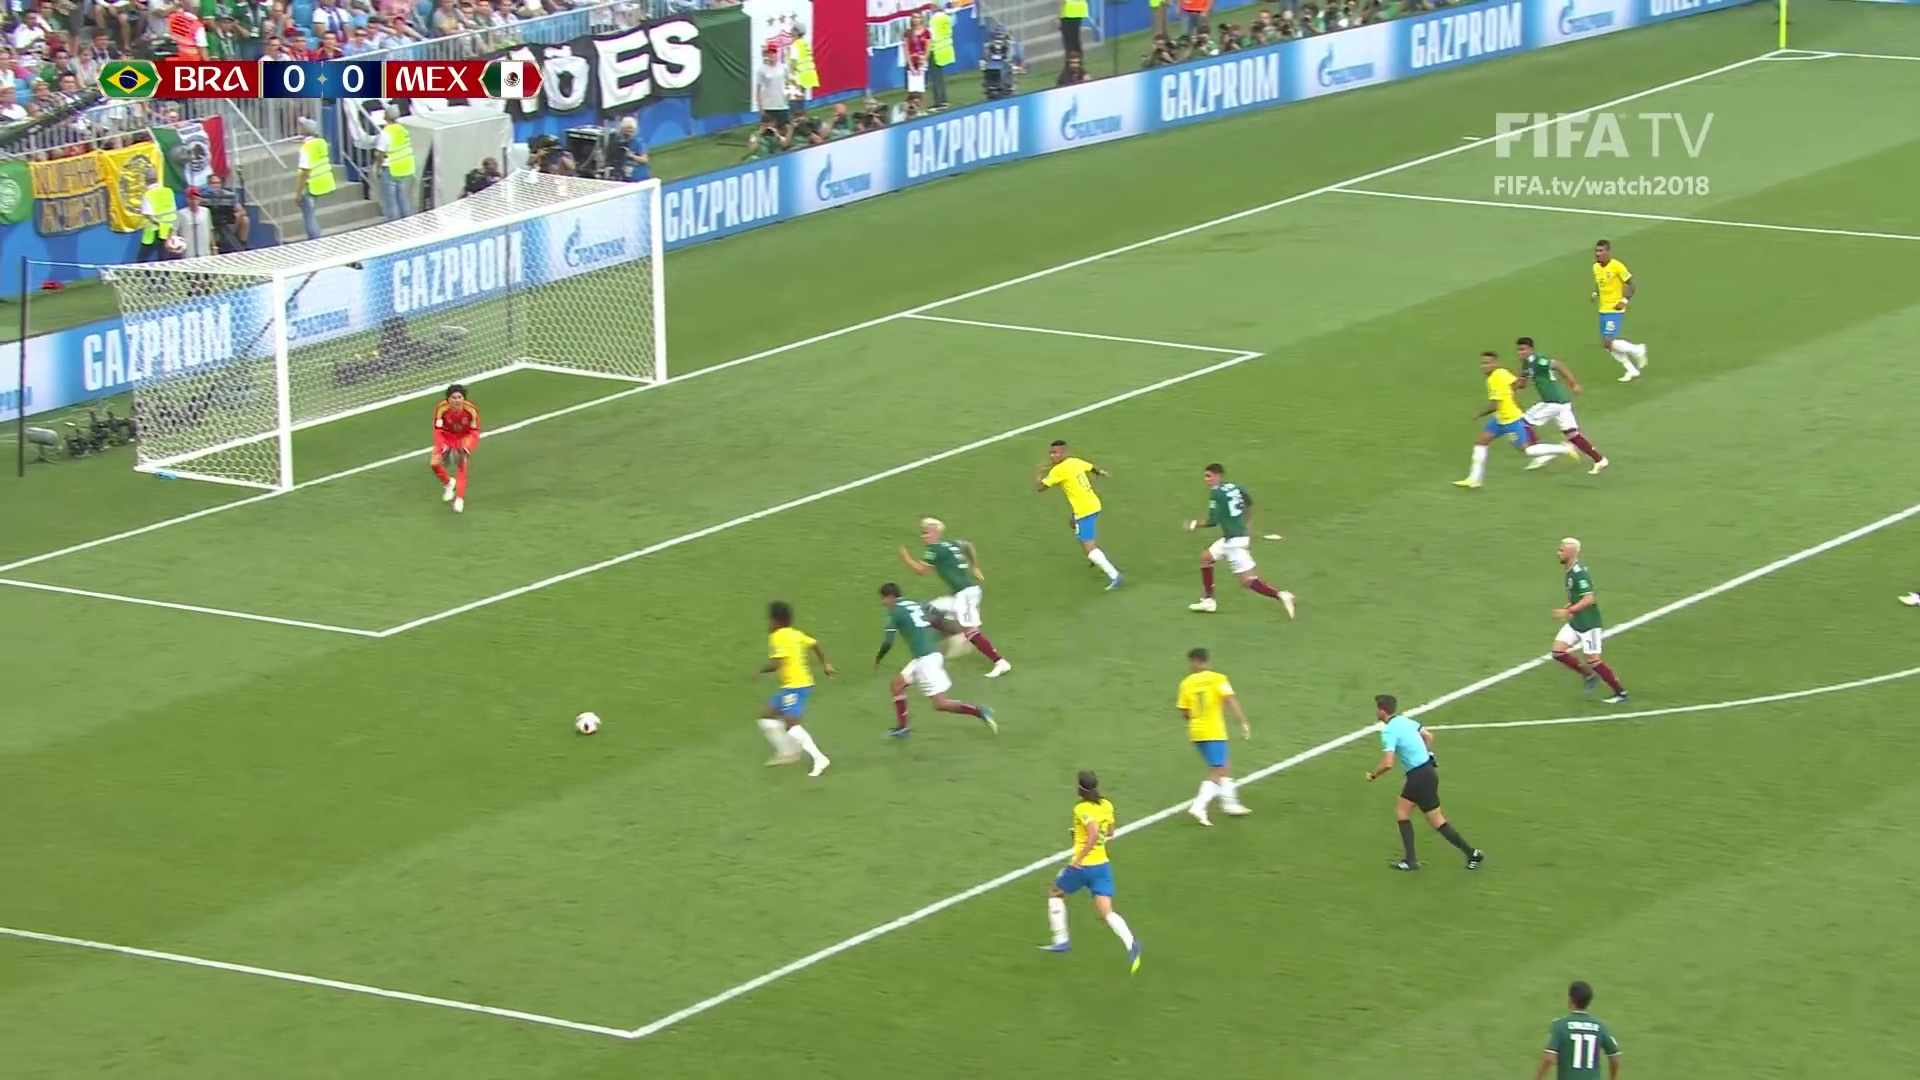ball: (577, 713, 599, 733)
person: (873, 588, 1003, 743), (1040, 774, 1140, 970), (913, 518, 1011, 678), (1188, 465, 1292, 615), (1511, 338, 1611, 480), (1457, 353, 1571, 476), (1036, 443, 1123, 593), (755, 605, 830, 774), (1176, 649, 1248, 822), (1551, 540, 1619, 693), (1586, 249, 1651, 382), (1538, 978, 1620, 1080), (432, 386, 476, 505)
